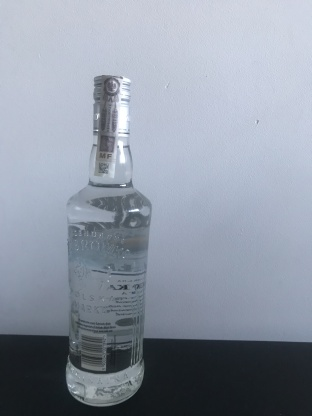nakretka: (90, 71, 132, 141)
